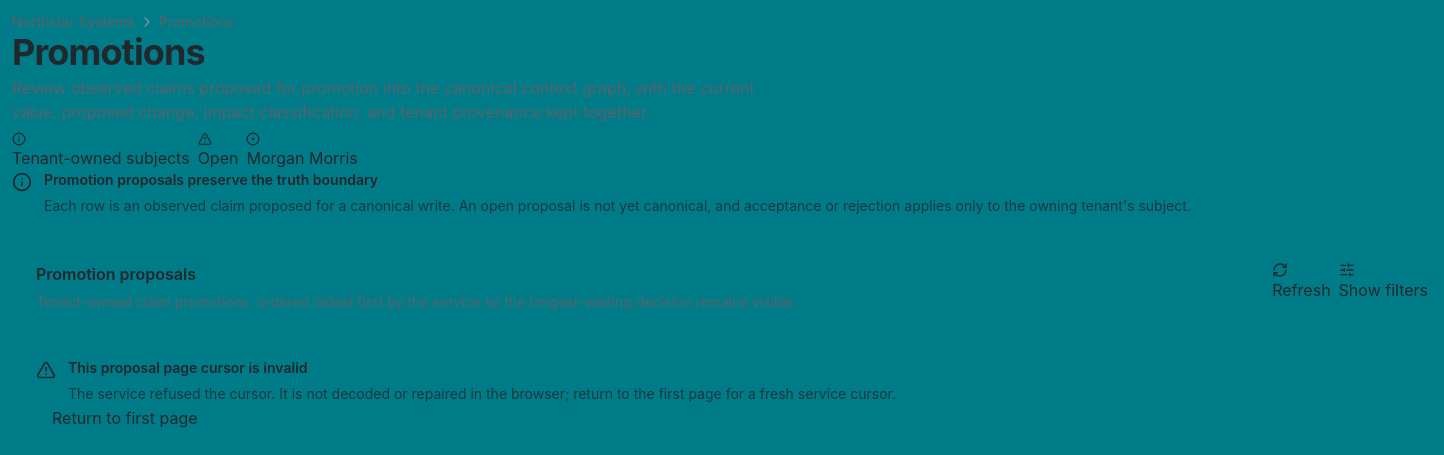
Scenario: ProposalsPage › recovers from an invalid opaque cursor without decoding it
The width and height of the screenshot is (1444, 455).
Expected: the text "This proposal page cursor is invalid" is shown, [68,359,308,376]
Click the button "Return to first page": (125, 418) [52,406,198,430]
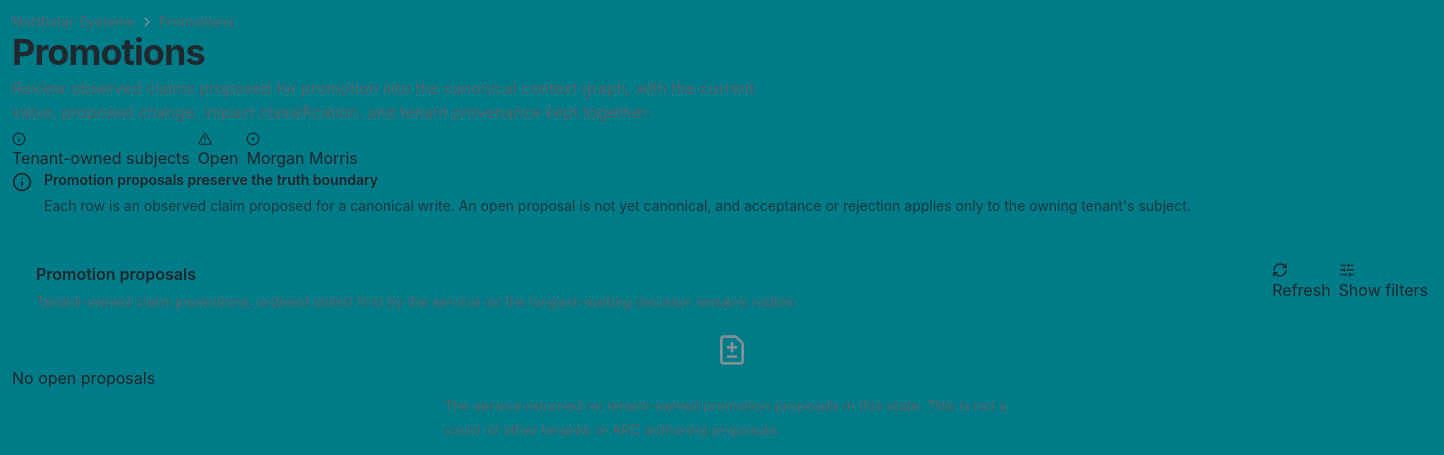
Now the text "No open proposals" is shown, box [12,368,155,388]
